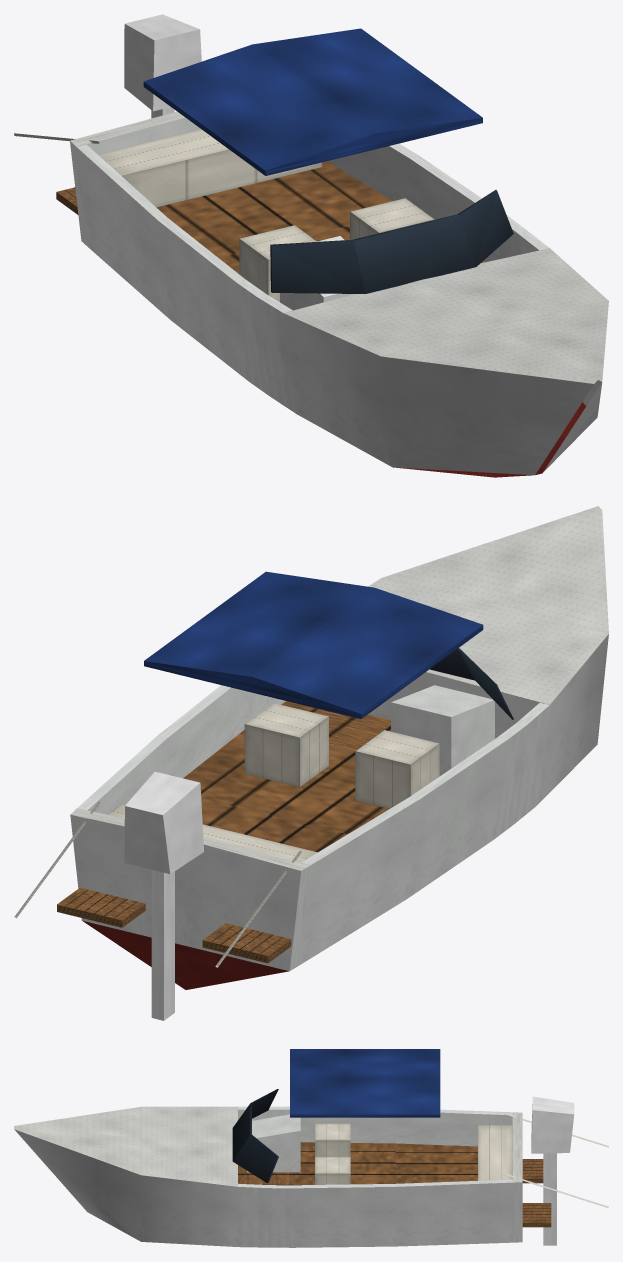
File: SM_Morin_Barca_Motoscafo_TelaBlu_LOD2.fbx
3 views of the same model, one above another, from view 1: azimuth 30°, elevation 25°; view 2: azimuth 150°, elevation 25°; view 3: azimuth 270°, elevation 25° (orthographic). The views are drawn at different scales.
Parts seen in each view (by area): view 1: SM_Morin_Barca_Motoscafo_TelaBlu_LOD2; view 2: SM_Morin_Barca_Motoscafo_TelaBlu_LOD2; view 3: SM_Morin_Barca_Motoscafo_TelaBlu_LOD2.
Boxes of the visible parts, box(x1,y1,x2,y2) form: SM_Morin_Barca_Motoscafo_TelaBlu_LOD2: box(14, 14, 608, 477); SM_Morin_Barca_Motoscafo_TelaBlu_LOD2: box(14, 506, 608, 1020); SM_Morin_Barca_Motoscafo_TelaBlu_LOD2: box(14, 1049, 608, 1247).
Bounding box in the file's own units: 270 × 830 × 259.
1 material, 1 textured.
